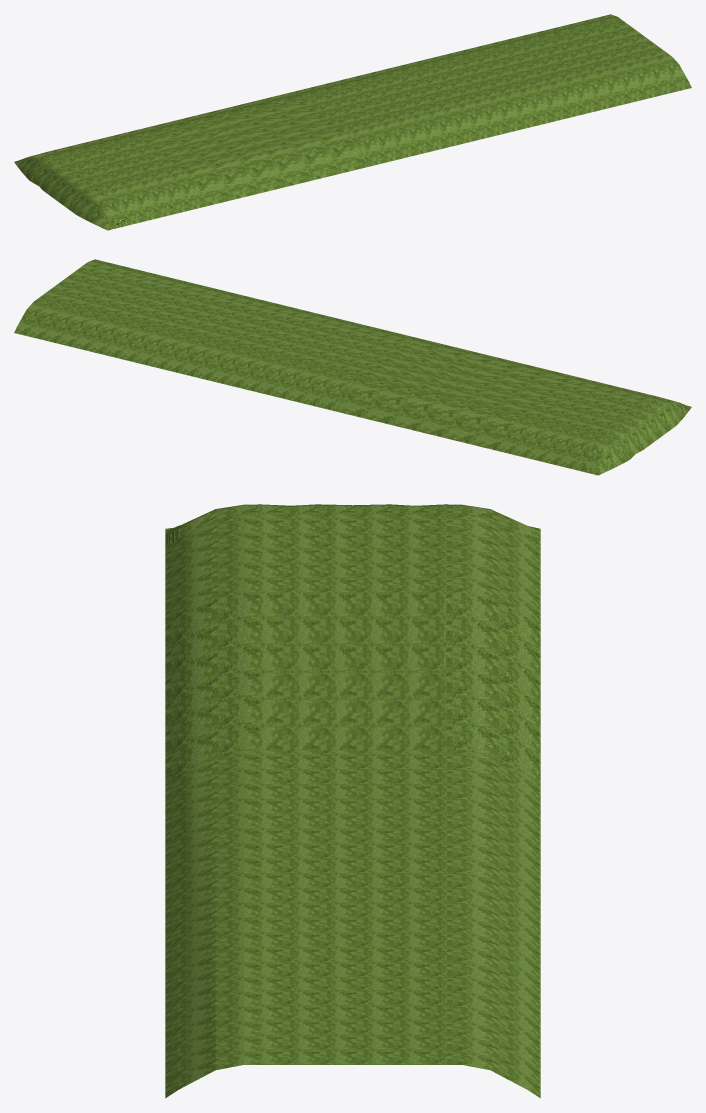
The model's file is poleR3.gltf.
3 renders of one model, top to bottom at view 1: azimuth 30°, elevation 25°; view 2: azimuth 150°, elevation 25°; view 3: azimuth 270°, elevation 25°, orthographic. The views are drawn at different scales.
Bounding box in the file's own units: 735 × 20.17 × 202.
1 material, 1 textured.
